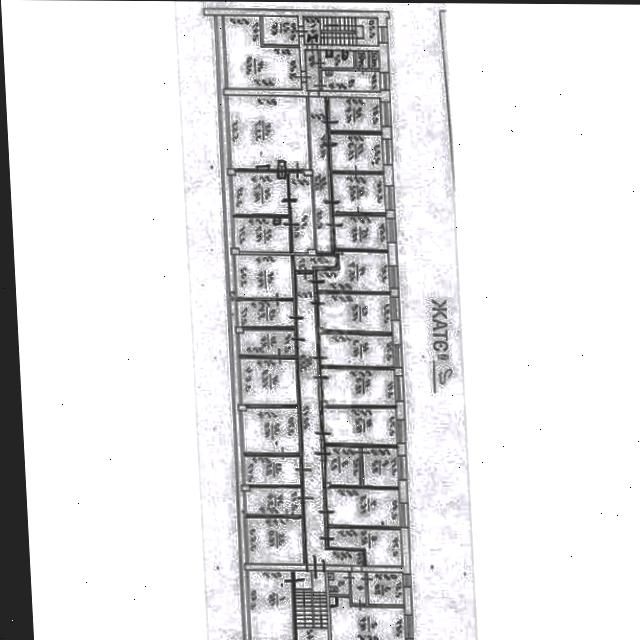room: (294, 272, 363, 568), (224, 12, 300, 93), (226, 96, 309, 170), (308, 96, 331, 253), (247, 569, 292, 640), (330, 598, 404, 640), (315, 251, 389, 292), (326, 528, 402, 567), (316, 294, 391, 333), (238, 358, 298, 405), (322, 408, 396, 445), (320, 369, 395, 405), (245, 519, 303, 565), (326, 490, 399, 526), (234, 255, 293, 298), (241, 408, 298, 452), (231, 172, 288, 215), (318, 334, 393, 366), (293, 570, 327, 640), (302, 17, 378, 46), (331, 173, 385, 212), (288, 172, 314, 253), (329, 134, 383, 171), (232, 217, 290, 251), (333, 215, 387, 249), (328, 98, 381, 131), (243, 457, 300, 485), (361, 446, 398, 489), (244, 488, 301, 515), (324, 445, 359, 487), (236, 330, 294, 355), (236, 301, 294, 324), (367, 573, 403, 605), (320, 71, 378, 90), (262, 16, 298, 45), (293, 255, 335, 270), (319, 51, 353, 68), (304, 50, 318, 90), (327, 571, 349, 596), (350, 572, 366, 602), (355, 51, 367, 69), (368, 50, 378, 69)
